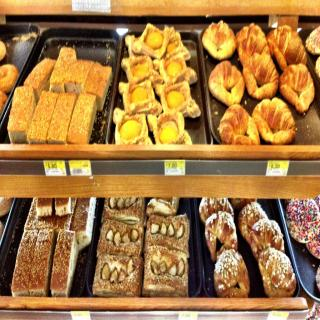Croissant: (201, 20, 307, 146), (200, 196, 297, 299), (252, 96, 292, 146), (277, 64, 315, 115)
